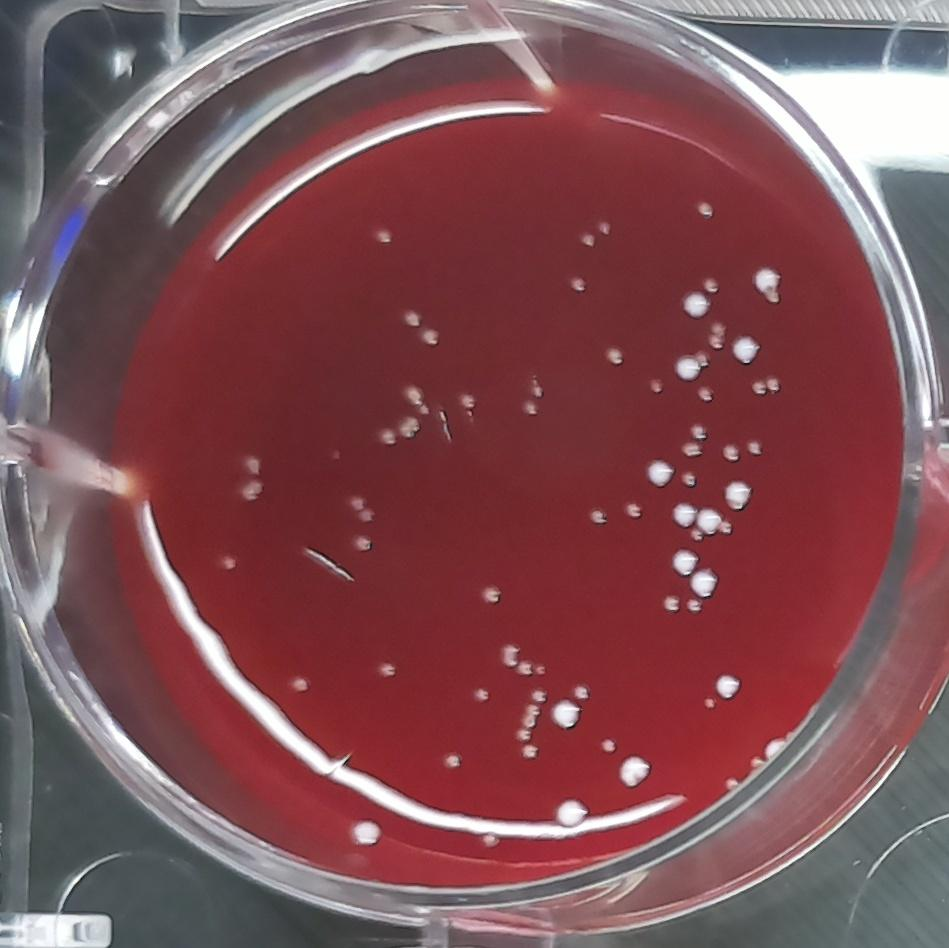staphylo-: (347, 492, 378, 526), (478, 582, 505, 613), (239, 477, 267, 502), (241, 452, 267, 478), (565, 271, 592, 296), (621, 501, 648, 526), (396, 413, 421, 440), (500, 639, 521, 671), (708, 320, 728, 353), (456, 391, 480, 418), (419, 323, 443, 349), (517, 396, 543, 420), (603, 342, 626, 369), (371, 224, 396, 248), (402, 383, 425, 408), (521, 703, 541, 730), (693, 198, 715, 222), (375, 424, 397, 448), (702, 273, 724, 296), (288, 673, 311, 695), (483, 828, 504, 852), (402, 308, 424, 330), (645, 375, 667, 397), (697, 384, 719, 406), (376, 659, 398, 681), (577, 229, 598, 252), (586, 506, 607, 529), (746, 438, 768, 459), (570, 682, 594, 701), (526, 378, 546, 400), (351, 535, 371, 557), (680, 467, 700, 488), (443, 752, 464, 772), (765, 373, 784, 395), (690, 423, 710, 443), (530, 686, 550, 706), (596, 219, 615, 240), (724, 444, 743, 465), (746, 379, 768, 397), (680, 440, 702, 458), (661, 592, 679, 614), (599, 735, 618, 755), (763, 285, 782, 304), (472, 688, 492, 706), (685, 599, 704, 616), (519, 744, 539, 760), (717, 518, 733, 536), (514, 728, 533, 743), (689, 527, 704, 543)
